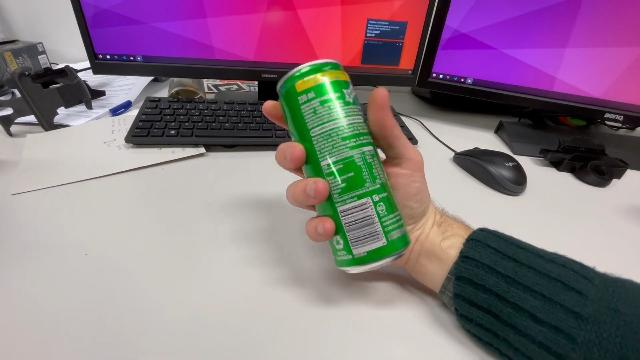Sprite: (274, 57, 414, 277)
